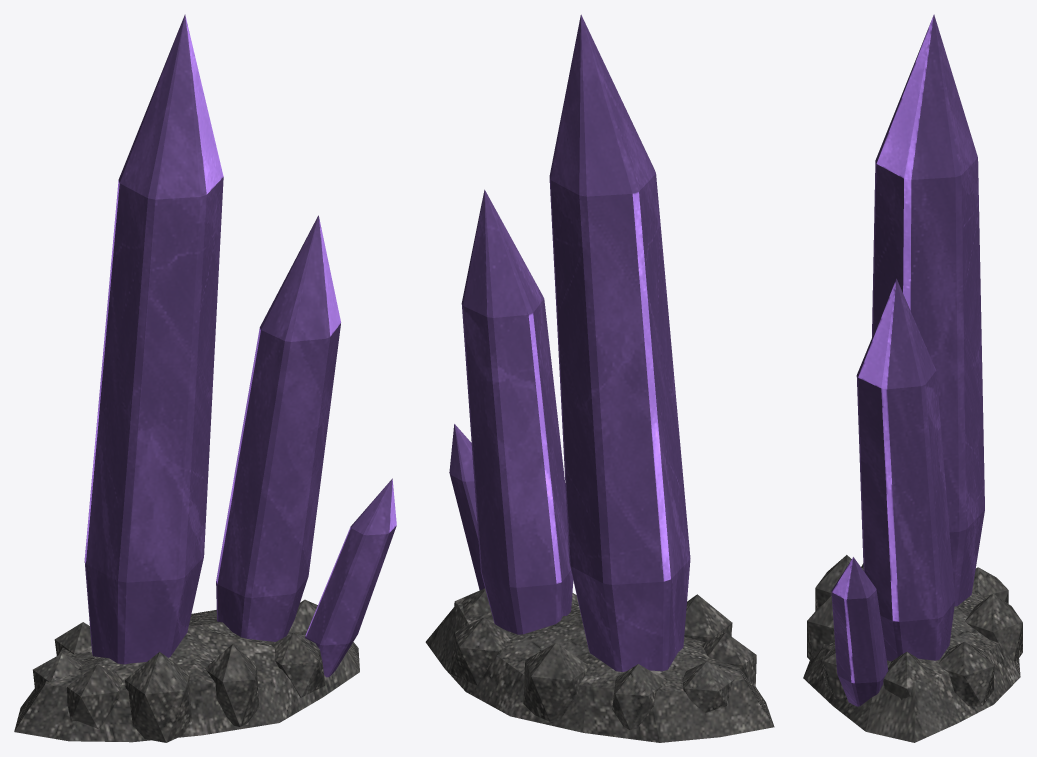
Rendered from ore_cluster_04_split_spire.glb.
The picture shows the model from 3 angles, left to right: view 1: azimuth 30°, elevation 25°; view 2: azimuth 150°, elevation 25°; view 3: azimuth 270°, elevation 25°; orthographic projection. The views are drawn at different scales.
Parts seen in each view (by area): view 1: ore_cluster_04_split_spire; view 2: ore_cluster_04_split_spire; view 3: ore_cluster_04_split_spire.
Boxes of the visible parts, x1=… form: ore_cluster_04_split_spire: x1=14, y1=14, x2=396, y2=742; ore_cluster_04_split_spire: x1=425, y1=14, x2=774, y2=742; ore_cluster_04_split_spire: x1=803, y1=14, x2=1022, y2=742.
Bounding box in the file's own units: 32.75 × 60 × 18.36.
Materials: 3 (3 with a texture image).
